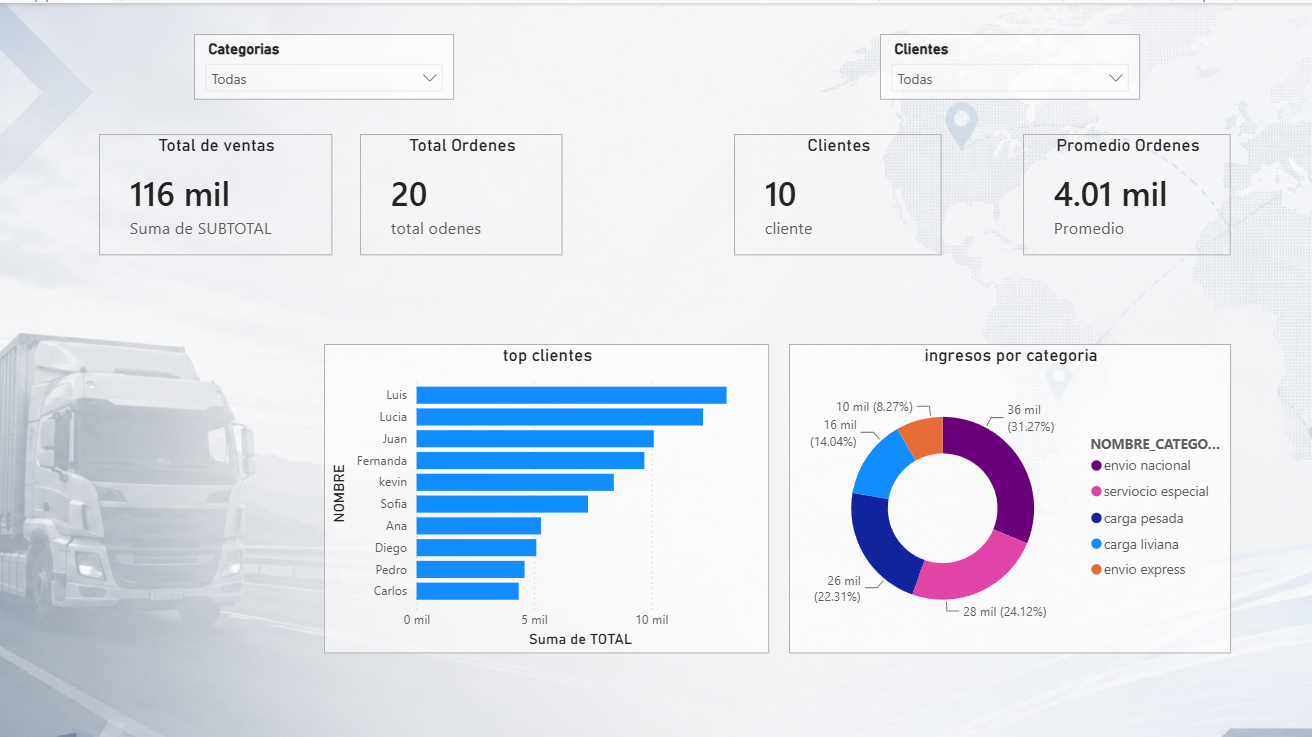

What the dashboard file says about the page in this screenshot:
{"tool":"powerbi","page":{"name":"Página 1","canvas":[1280,720],"ordinal":0},"visuals":[{"type":"cardVisual","title":"Total de ventas ","fields":{"Data":["Sum(detalleOrden.SUBTOTAL)"]},"box":[96.3,127.4,226.6,117.7],"z":0},{"type":"barChart","title":"top clientes ","fields":{"Category":["clientes.NOMBRE"],"Y":["Sum(ordenes.TOTAL)"]},"box":[315.1,331.7,432.8,300.5],"z":1},{"type":"donutChart","title":"ingresos por categoria","fields":{"Category":["categoria.NOMBRE_CATEGORIA"],"Y":["Sum(detalleOrden.SUBTOTAL)"]},"box":[767.4,331.7,429.9,300.5],"z":2},{"type":"cardVisual","title":"Total Ordenes ","fields":{"Data":["categoria.total odenes"]},"box":[350.2,127.4,197.4,117.7],"z":3},{"type":"cardVisual","title":"Clientes","fields":{"Data":["categoria.cliente"]},"box":[713.9,127.4,202.3,117.7],"z":4},{"type":"cardVisual","title":"Promedio Ordenes","fields":{"Data":["categoria.Promedio"]},"box":[995,127.4,202.3,117.7],"z":5},{"type":"slicer","fields":{"Values":["categoria.NOMBRE_CATEGORIA"]},"box":[188.7,30.2,252.9,64.2],"z":6},{"type":"slicer","fields":{"Values":["clientes.NOMBRE"]},"box":[855.9,30.2,252.9,64.2],"z":7}]}

Visuals, with their boxes in screenshot pixels (x1, y1, x2, y2), scaled from the page's 1280x720 canvas onto the 1312x737 screenshot:
"Total de ventas " cardVisual: 99, 130, 331, 251
"top clientes " barChart: 323, 340, 767, 647
"ingresos por categoria" donutChart: 787, 340, 1227, 647
"Total Ordenes " cardVisual: 359, 130, 561, 251
"Clientes" cardVisual: 732, 130, 939, 251
"Promedio Ordenes" cardVisual: 1020, 130, 1227, 251
slicer - categoria.NOMBRE_CATEGORIA: 193, 31, 453, 97
slicer - clientes.NOMBRE: 877, 31, 1137, 97
